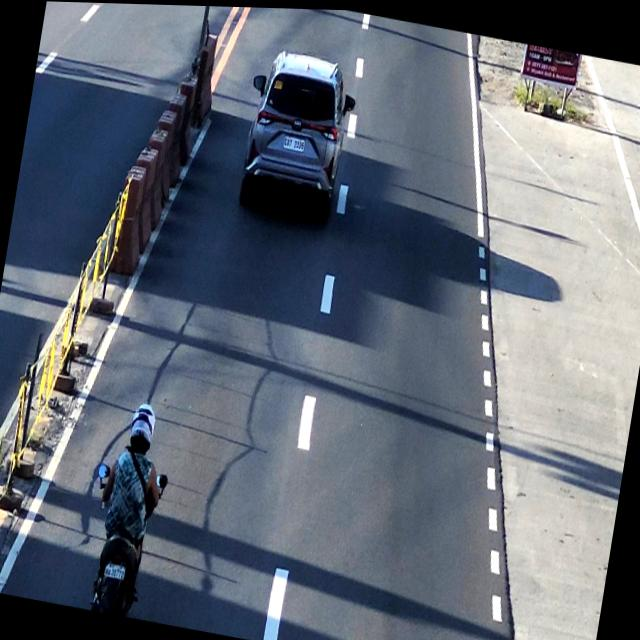Car: (240, 45, 354, 219)
License-Plate: (102, 562, 128, 580), (282, 133, 306, 152)
Motorcycle: (84, 393, 174, 620)
